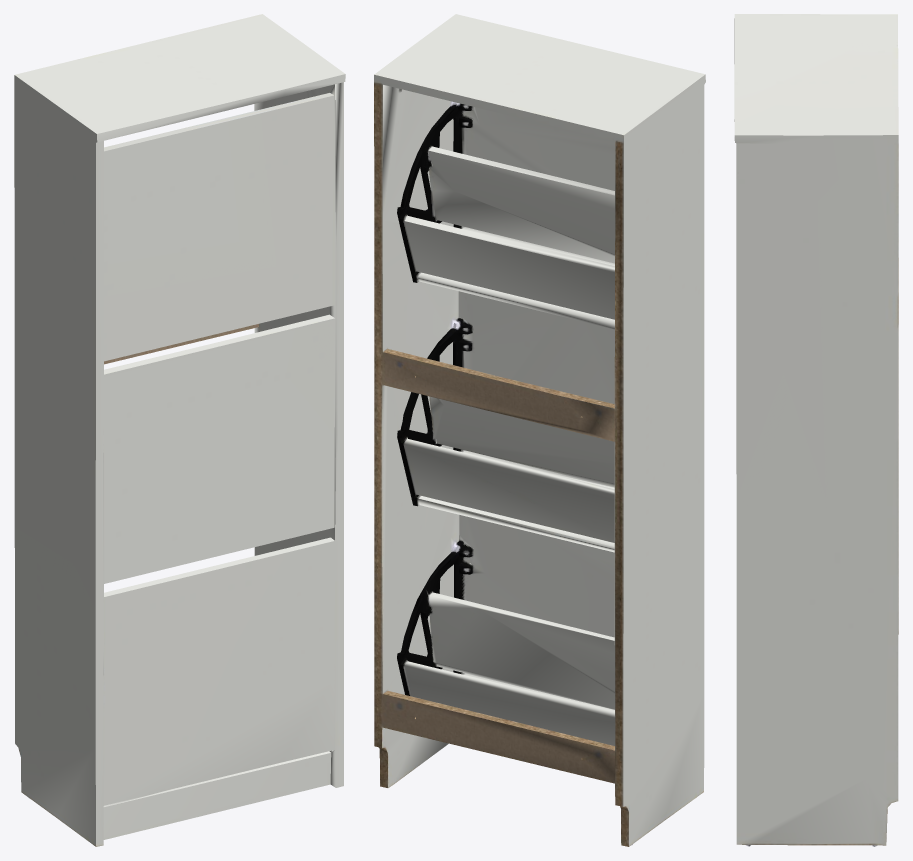
The model's file is bissa_szafka_na_buty_3_przegrody_10530259.glb.
3 views of the same model, side by side, from view 1: azimuth 30°, elevation 25°; view 2: azimuth 150°, elevation 25°; view 3: azimuth 270°, elevation 25° (orthographic).
Visible parts, largest first — view 1: bissa_szafka_na_buty_3_przegrody_10530259; view 2: bissa_szafka_na_buty_3_przegrody_10530259; view 3: bissa_szafka_na_buty_3_przegrody_10530259.
Boxes of the visible parts, x1,y1,x2,y2 form: bissa_szafka_na_buty_3_przegrody_10530259: [14, 14, 345, 846]; bissa_szafka_na_buty_3_przegrody_10530259: [374, 14, 705, 846]; bissa_szafka_na_buty_3_przegrody_10530259: [734, 14, 898, 846].
Bounding box in the file's own units: 0.4906 × 1.35 × 0.2817.
Materials: 1 (1 with a texture image).
